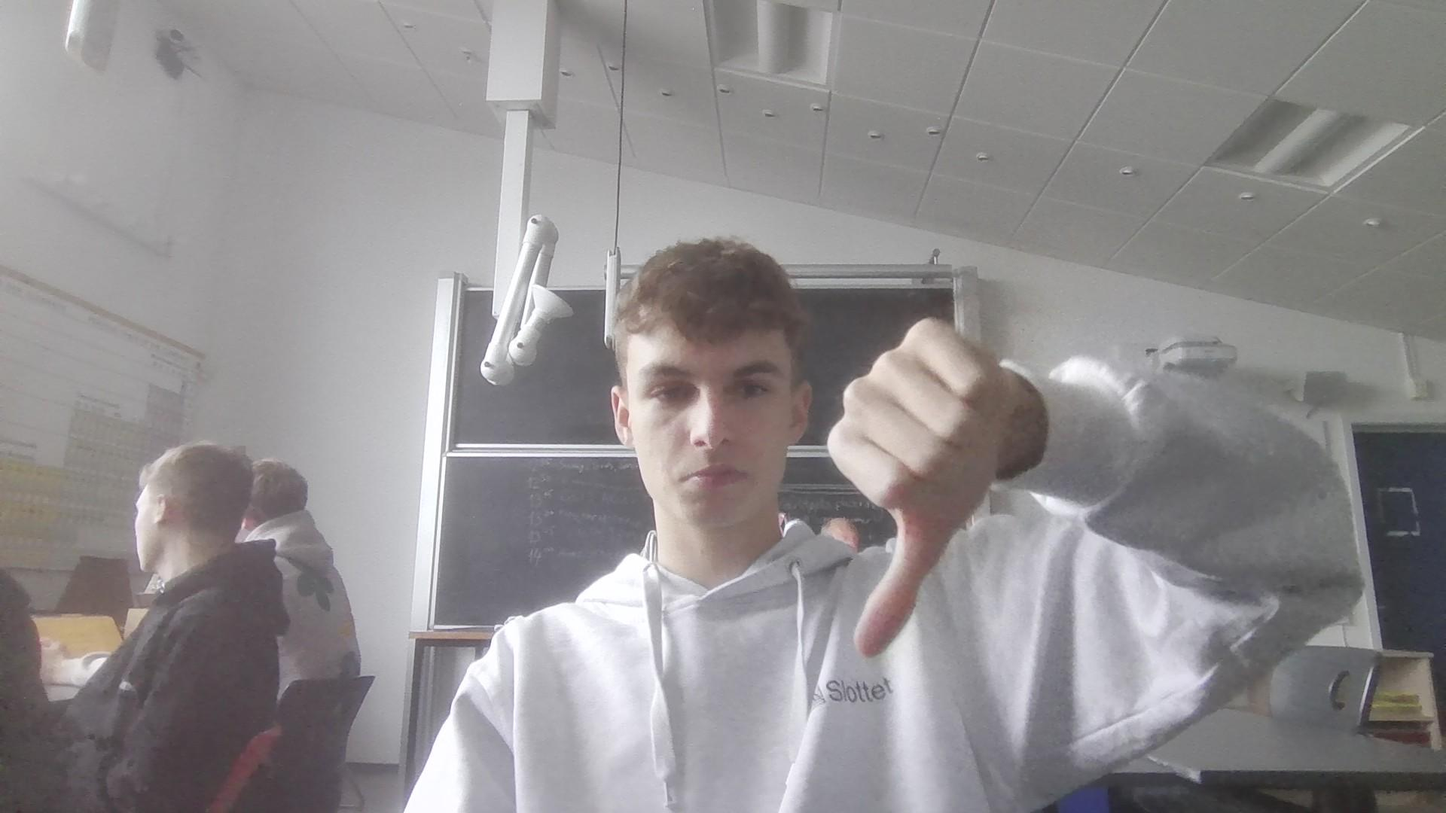thumbs down: (813, 298, 1034, 670)
